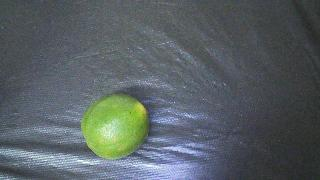LOCAL: (81, 94, 149, 160)
